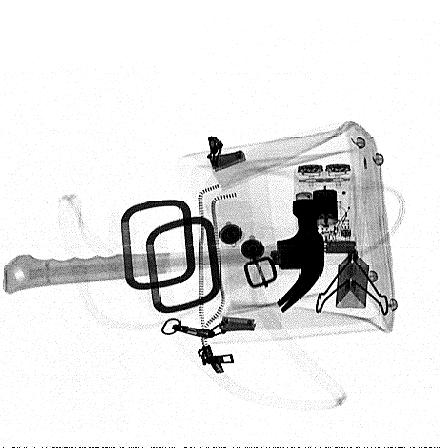Hammer: (3, 198, 325, 314)
